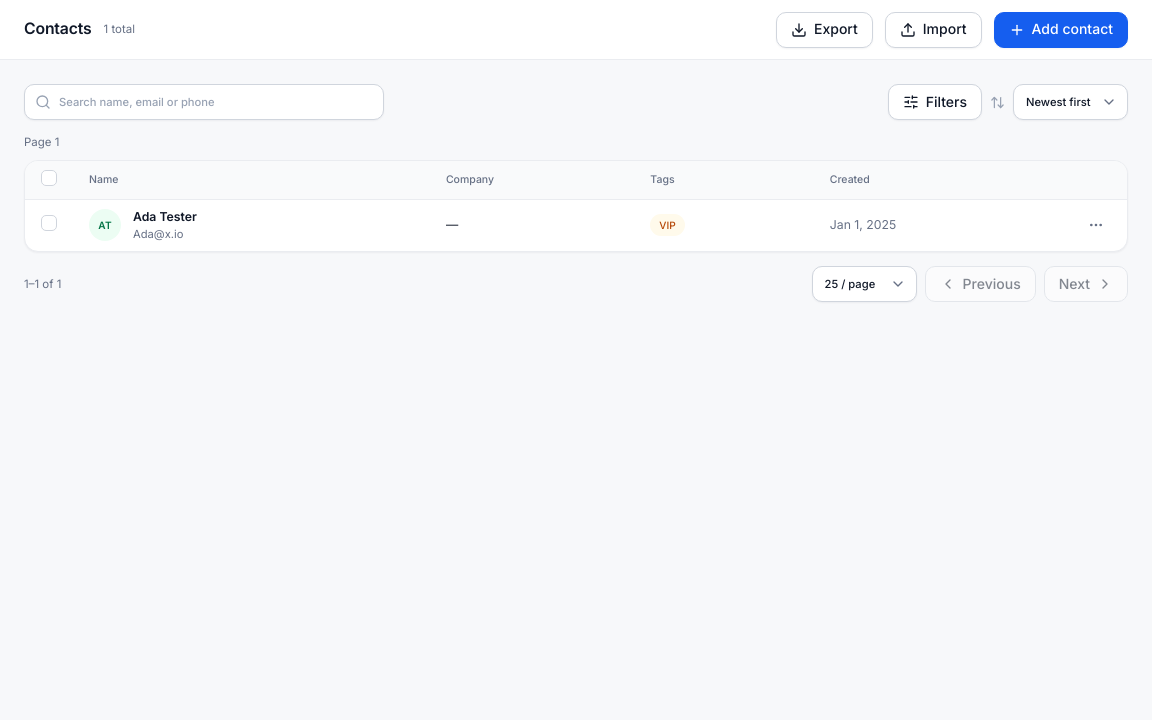
Scenario: ContactsView states › ignores an inverted date range and tells the user
The width and height of the screenshot is (1152, 720).
Click the button "Filters". click: {"x": 935, "y": 102}
box: [888,84,982,120]
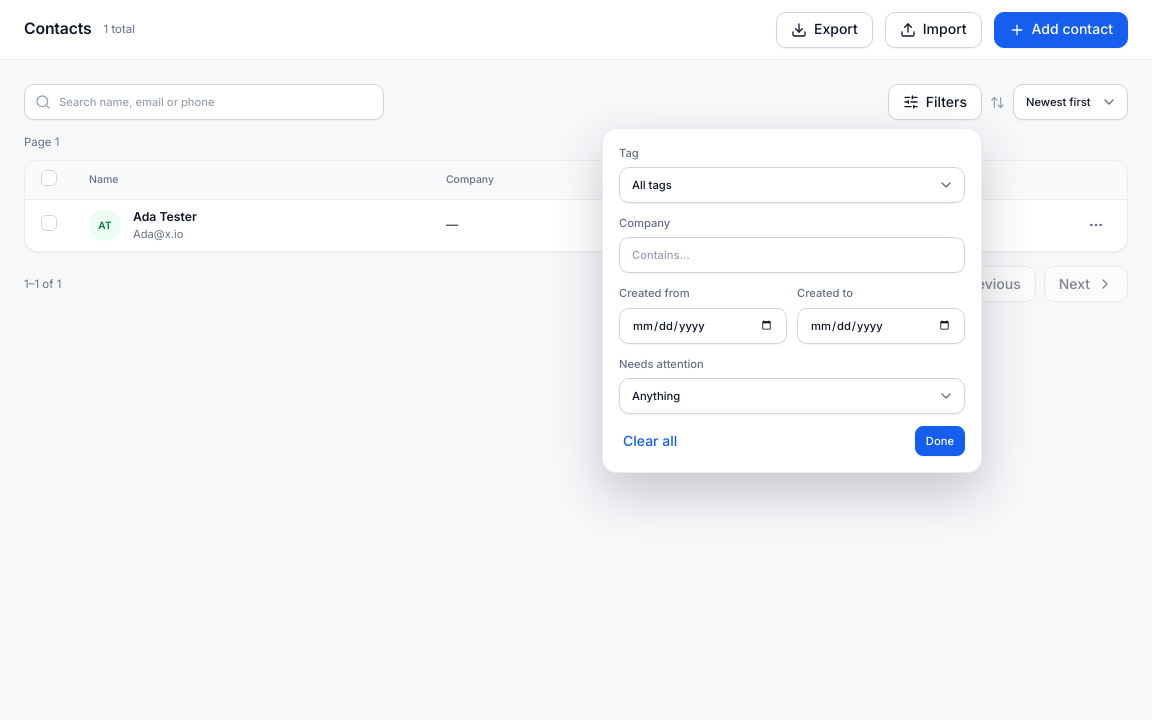
Type "2025-06-01" into the date field labelled "Created from". click: {"x": 703, "y": 326}
box: [619,308,787,344]
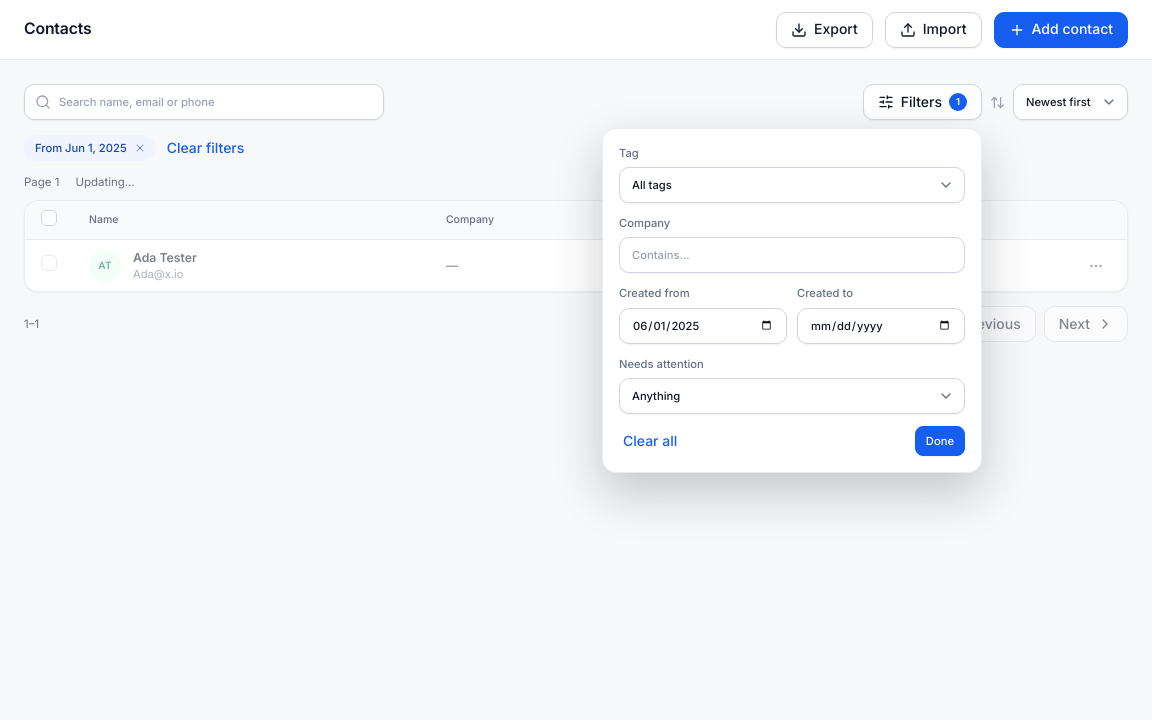
Type "2025-01-01" into the date field labelled "Created to". click: {"x": 881, "y": 326}
box: [797,308,965,344]
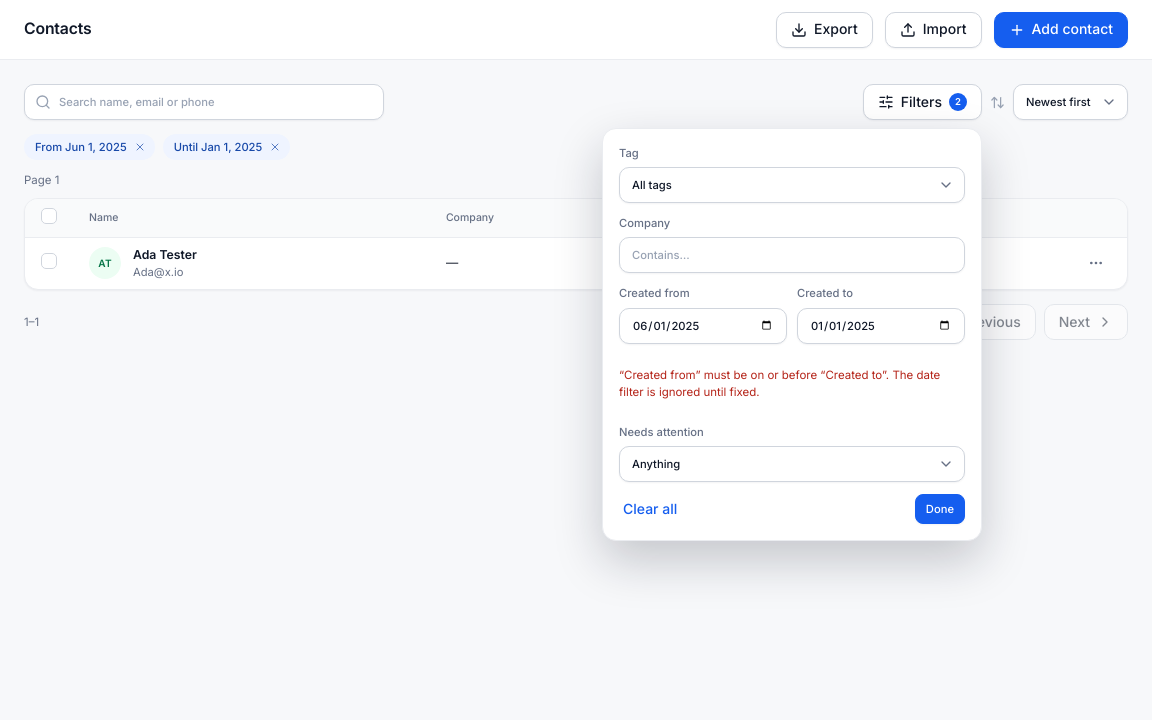
Result: the text "must be on or before" is shown at [619,368,940,399]
